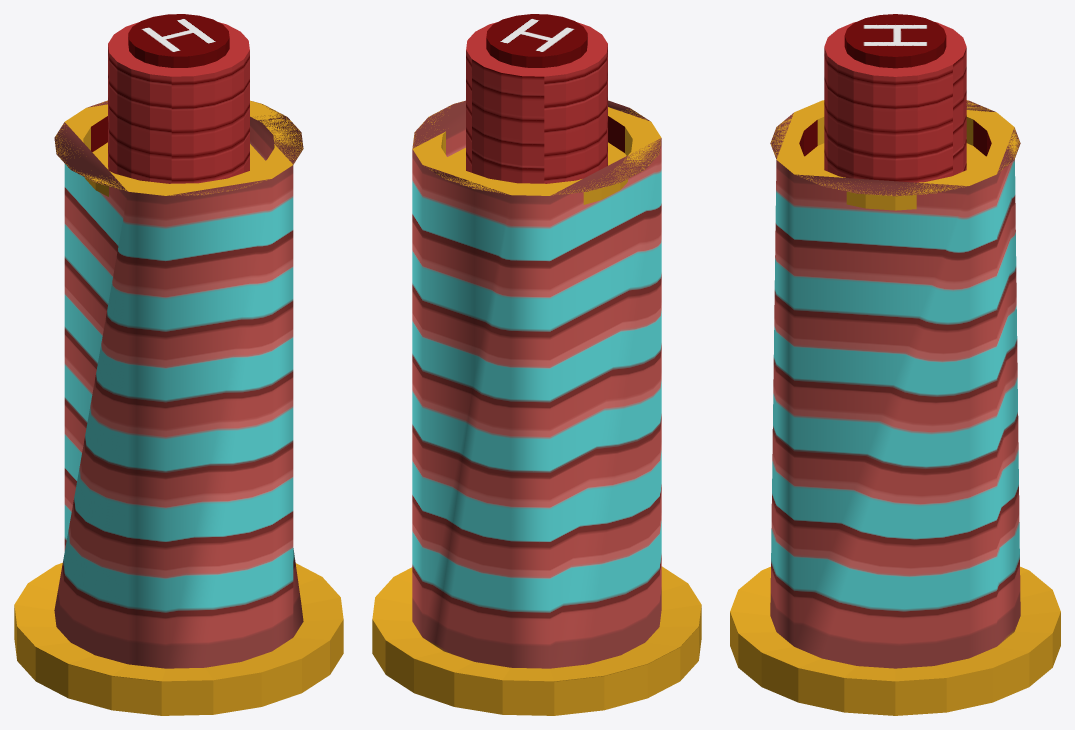
Rendered from building set 2_07.fbx.
3 views of the same model, side by side, from view 1: azimuth 30°, elevation 25°; view 2: azimuth 150°, elevation 25°; view 3: azimuth 270°, elevation 25° (orthographic).
Visible parts, largest first — view 1: pCylinder2; view 2: pCylinder2; view 3: pCylinder2.
Part boxes in pixels (left/top/right/bottom): pCylinder2: left=14, top=14, right=343, bottom=715; pCylinder2: left=372, top=14, right=701, bottom=715; pCylinder2: left=730, top=14, right=1060, bottom=715.
Bounding box in the file's own units: 4.11 × 8.37 × 4.11.
